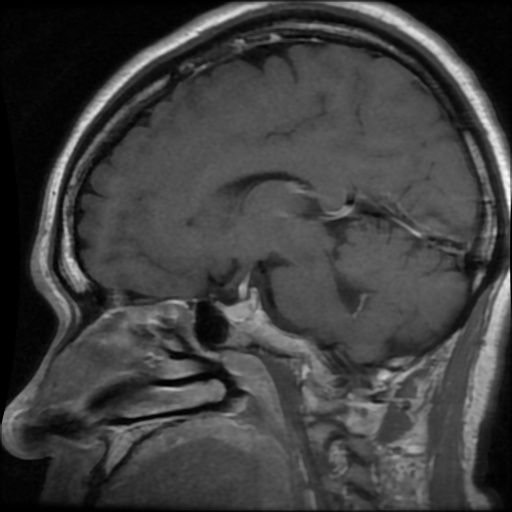pituitary: (216, 286, 260, 320)
